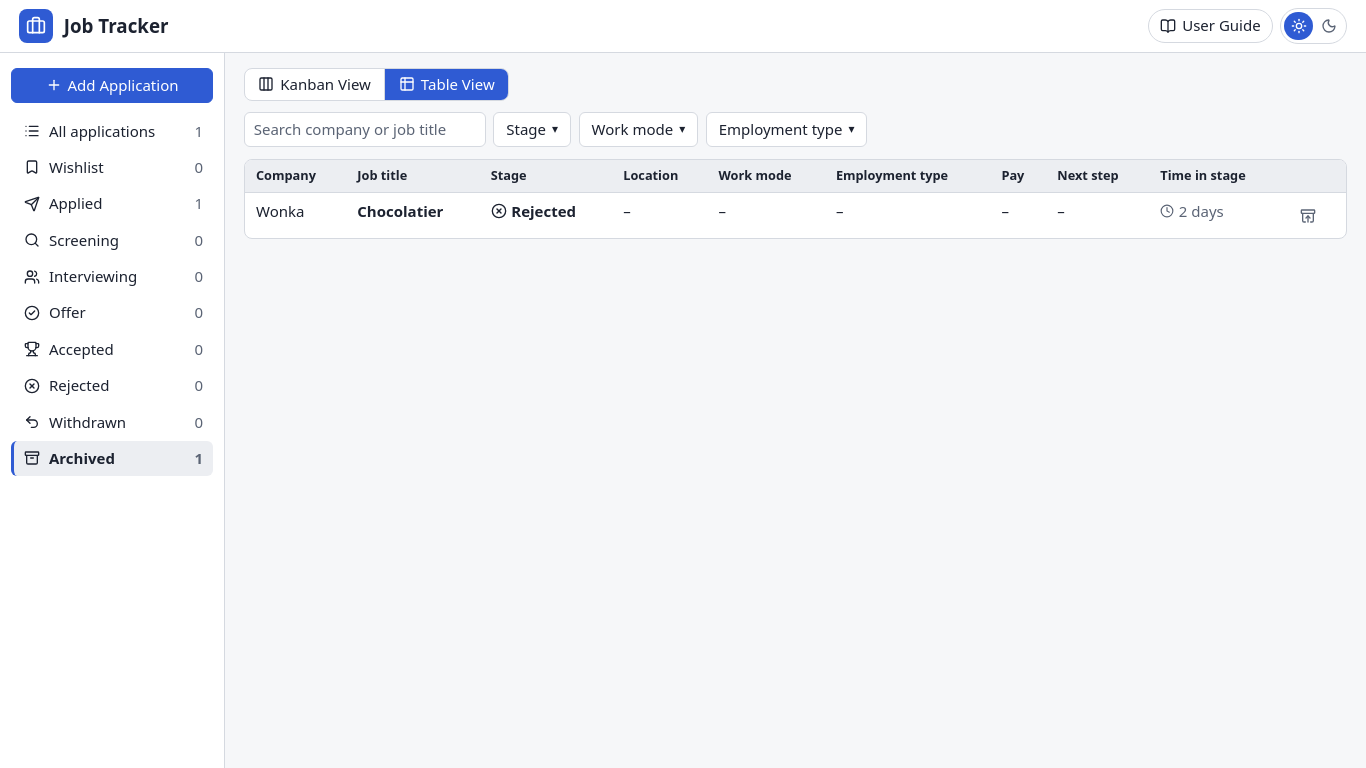
Test case: archiving and restoring from the table (spec 017, AC-2, AC-5) › shows Restore in the archived view, and a restored application leaves it and returns to the table and counts
Click the button named "Restore: Chocolatier at Wonka" at (1308,216), box [1293, 201, 1323, 231]
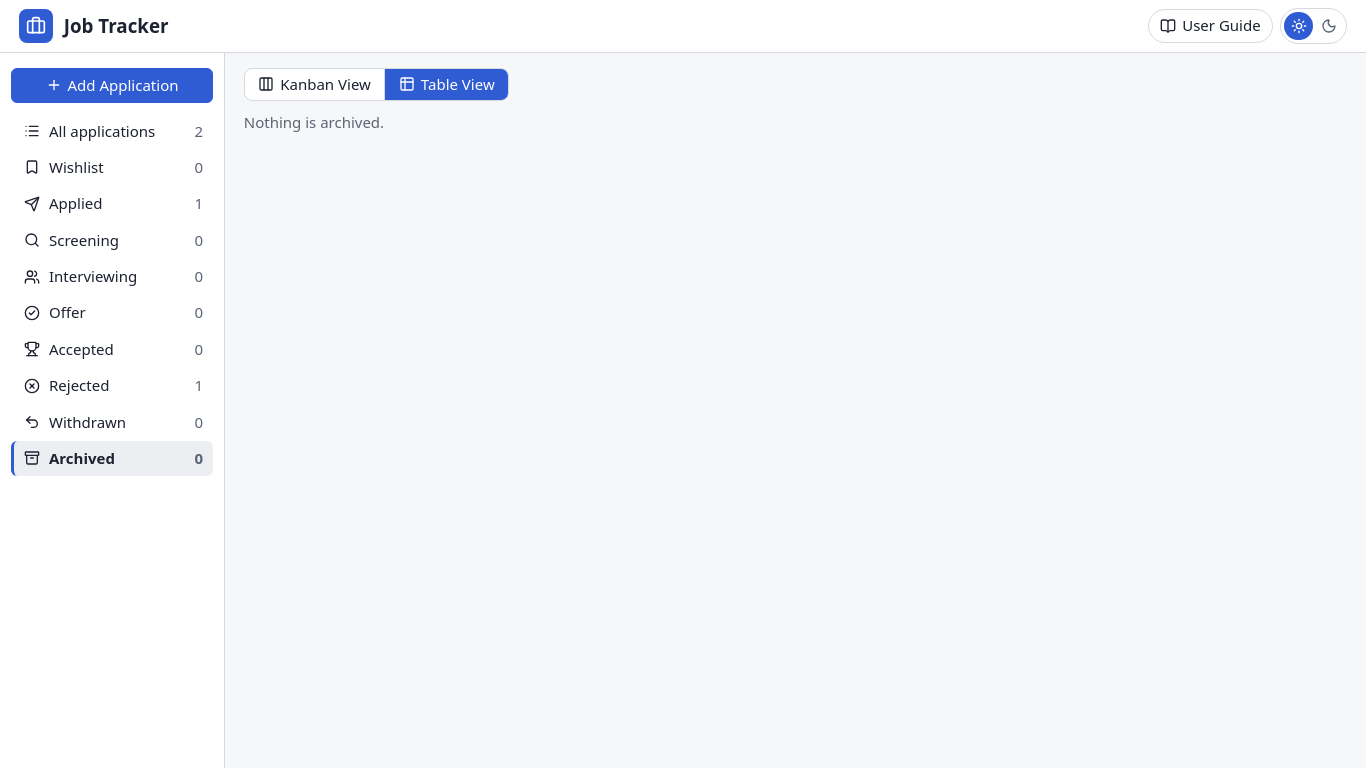
expect the text "Nothing is archived." is shown: met, box [244, 112, 384, 132]
expect the link "All applications 2" is shown: met
expect the link "Archived 0" is shown: met, box [11, 441, 213, 476]
Click the link "All applications 2" at (114,130), box [24, 120, 203, 140]
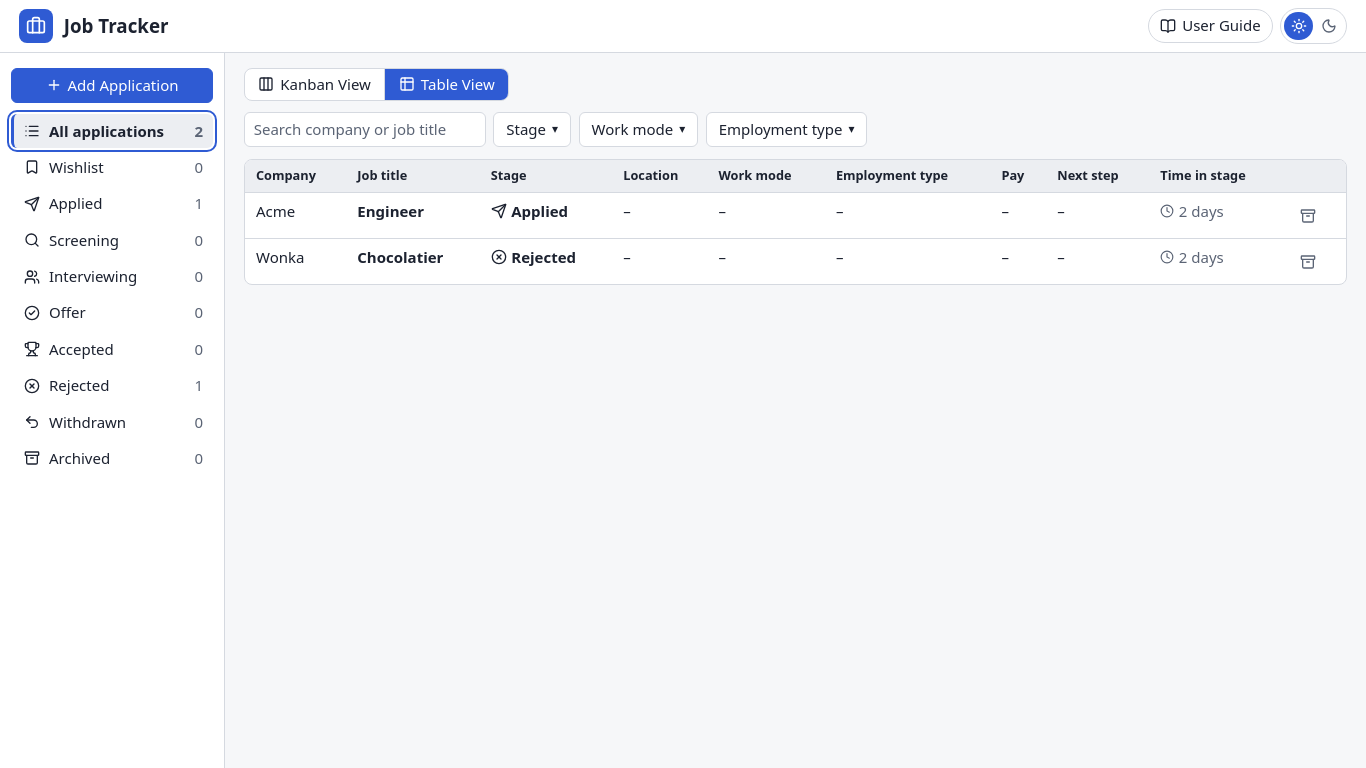
expect the text "Chocolatier" is shown: met, box [357, 247, 443, 268]
